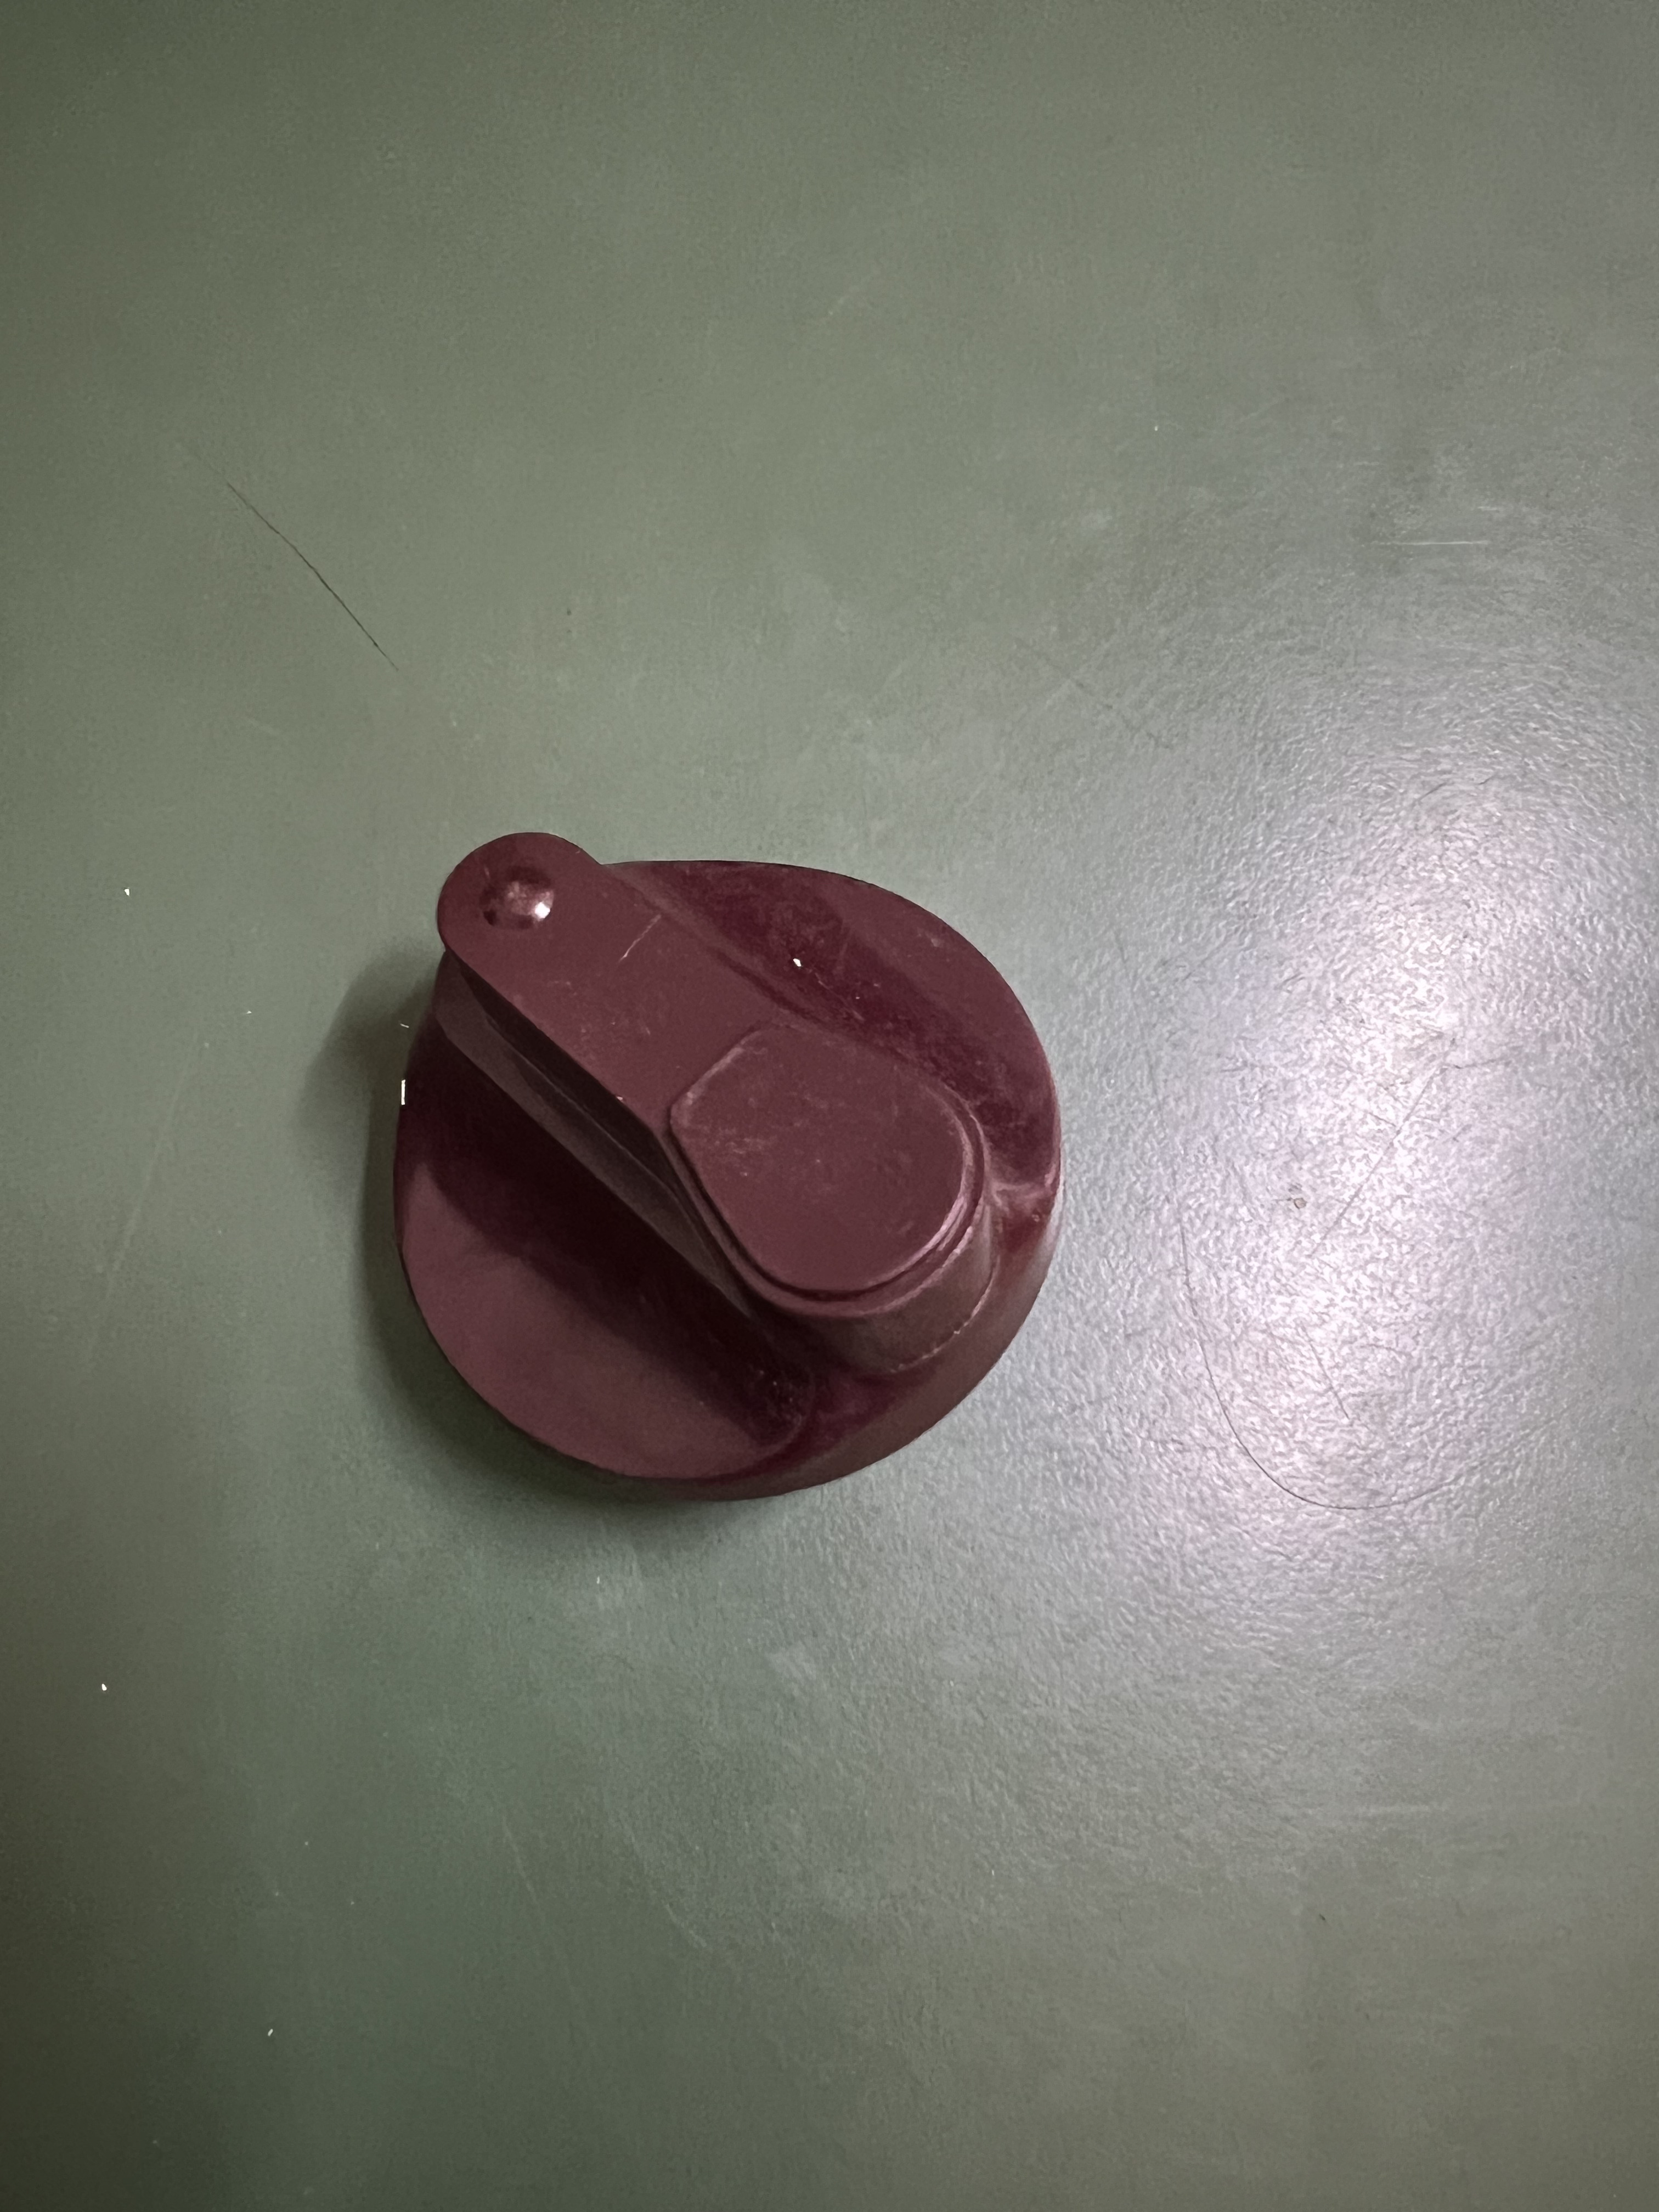regulator: (386, 820, 1079, 1496)
